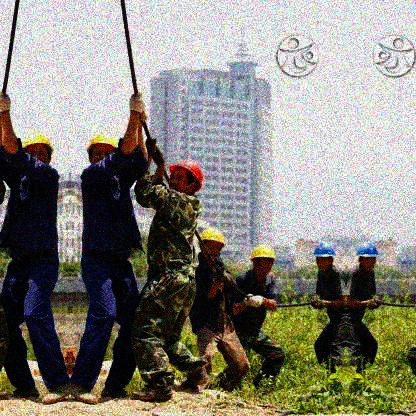helmet: (167, 157, 204, 198), (18, 130, 54, 165), (248, 243, 280, 281), (82, 132, 119, 164), (199, 224, 228, 264), (311, 241, 337, 271), (355, 242, 381, 271)
